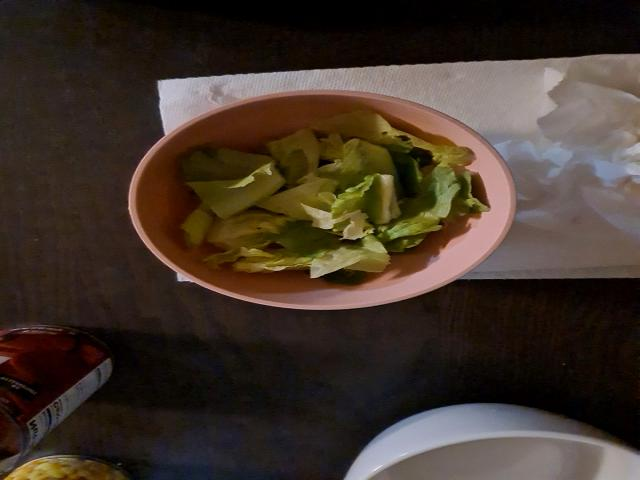kichen waste: (180, 110, 490, 286)
